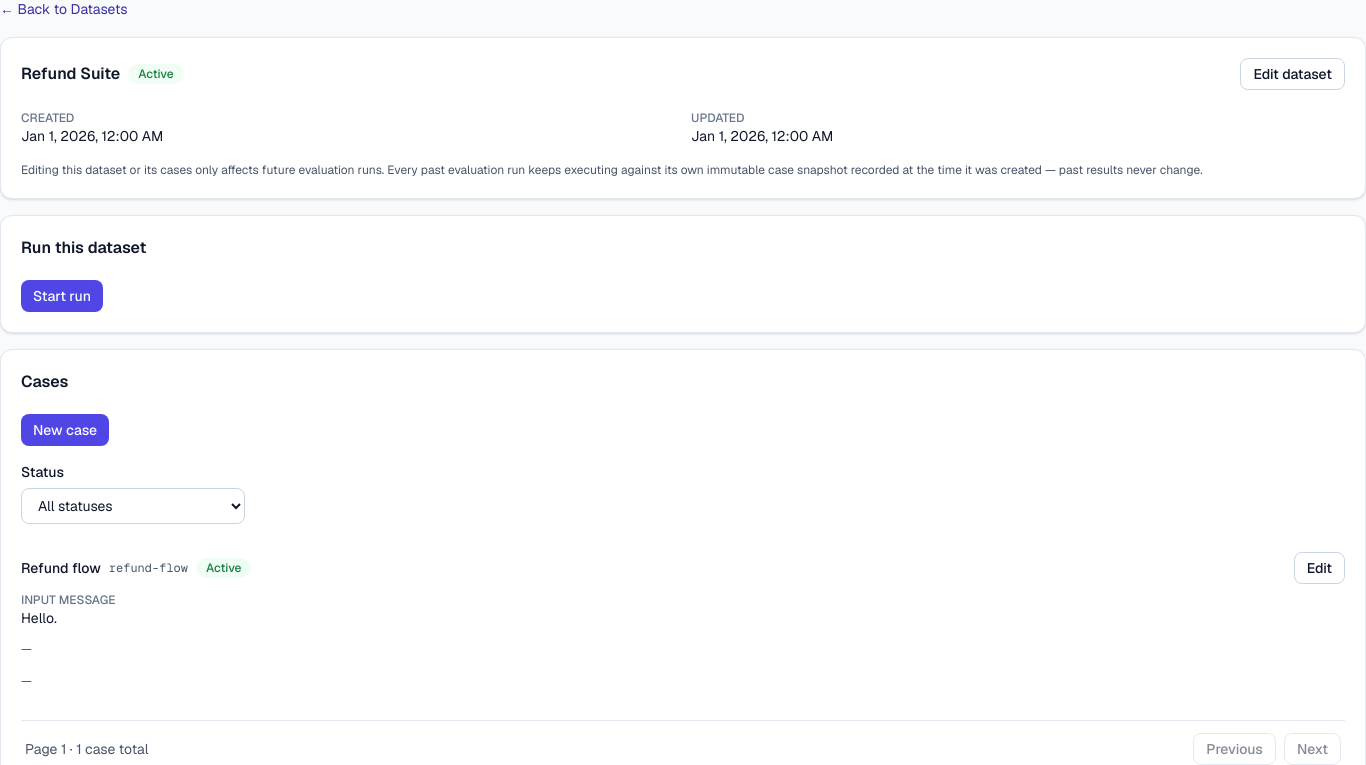
it: EvaluationDatasetDetailPage › edits a case in place and never offers to change its key
Expected: the text "Refund flow" is shown, [21,558,101,578]
Step 1. Click the button "Edit" → {"x": 1319, "y": 568}, box [1294,552,1345,584]
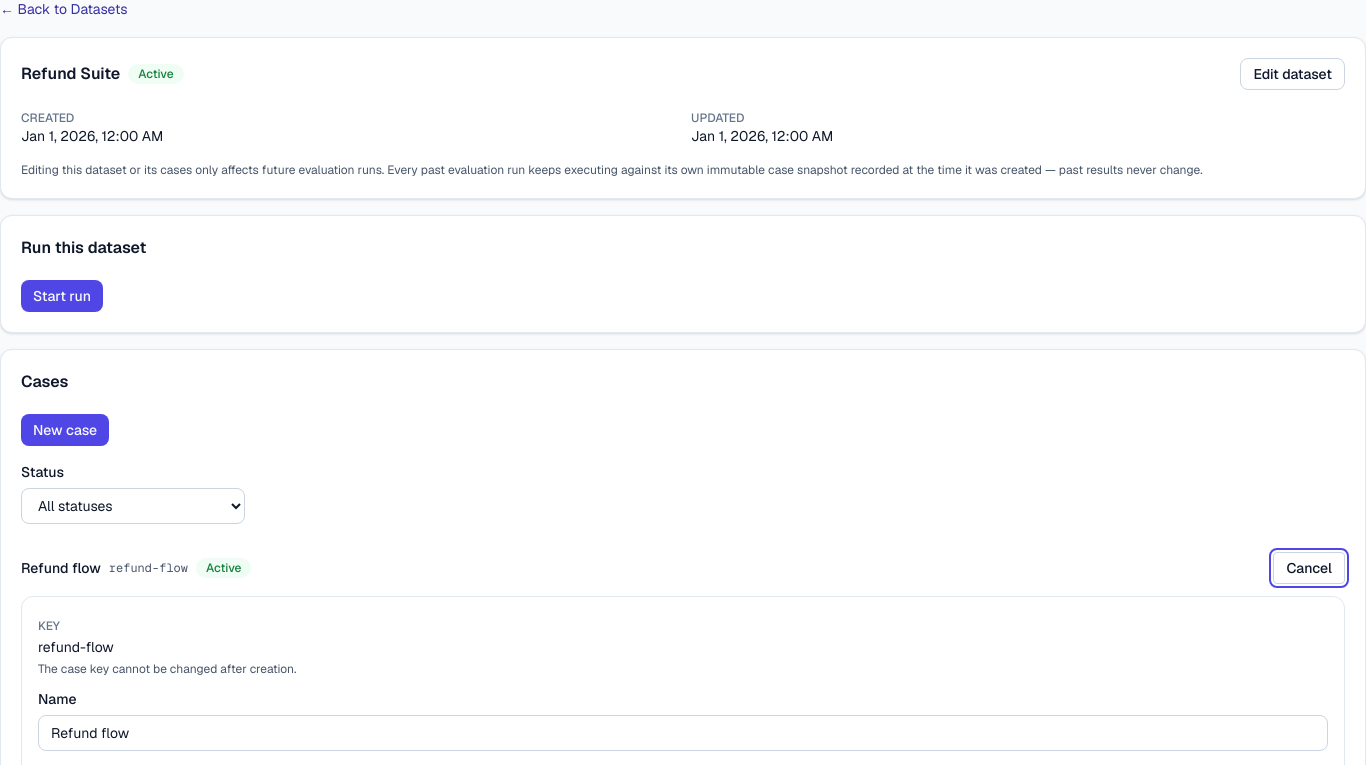
Expected: the text "refund-flow" next to "Refund flow" is shown, [109,560,188,576]
Step 2. Replace the text in the field labelled "Name" with "Refund flow (updated)" → {"x": 683, "y": 733}, box [38,715,1328,751]
(page scrolled)
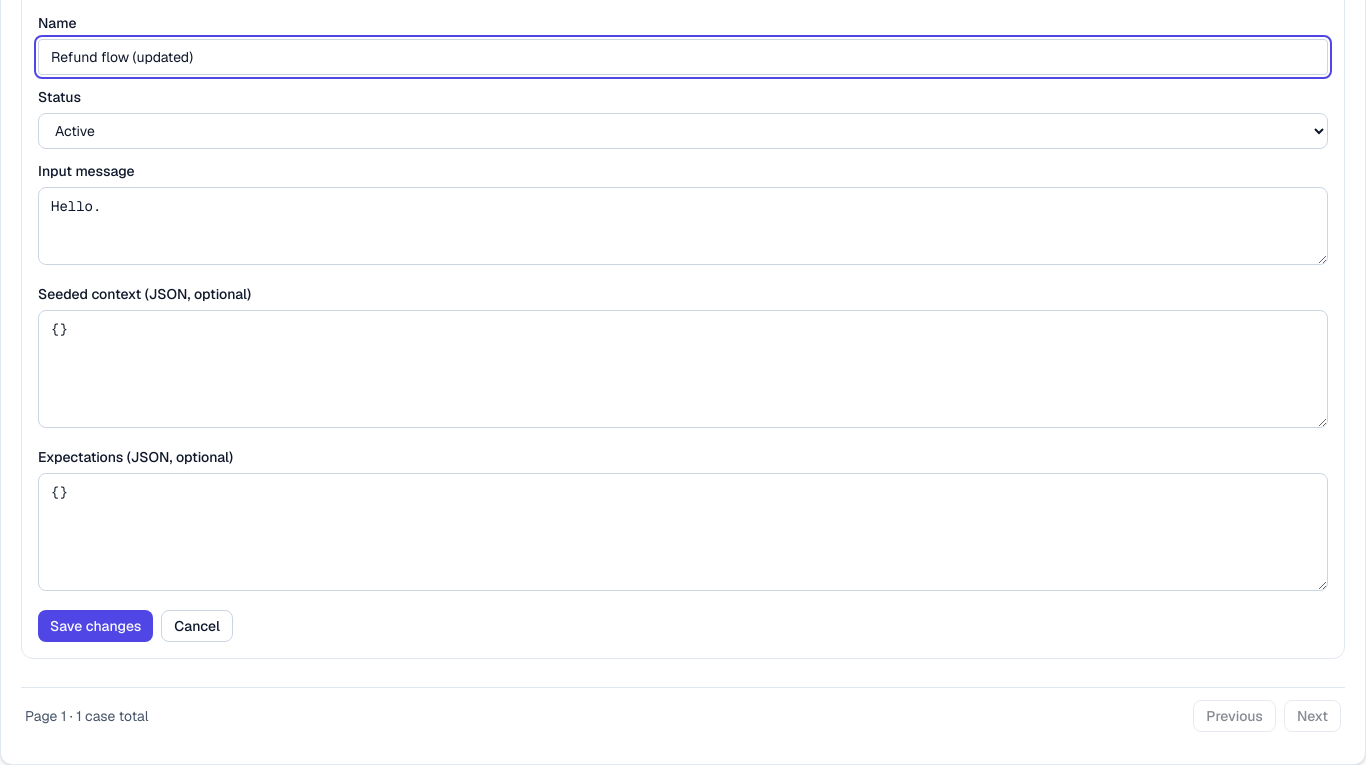
Step 3. Click the button "Save changes" → {"x": 96, "y": 626}, box [38,610,153,642]
(page scrolled)
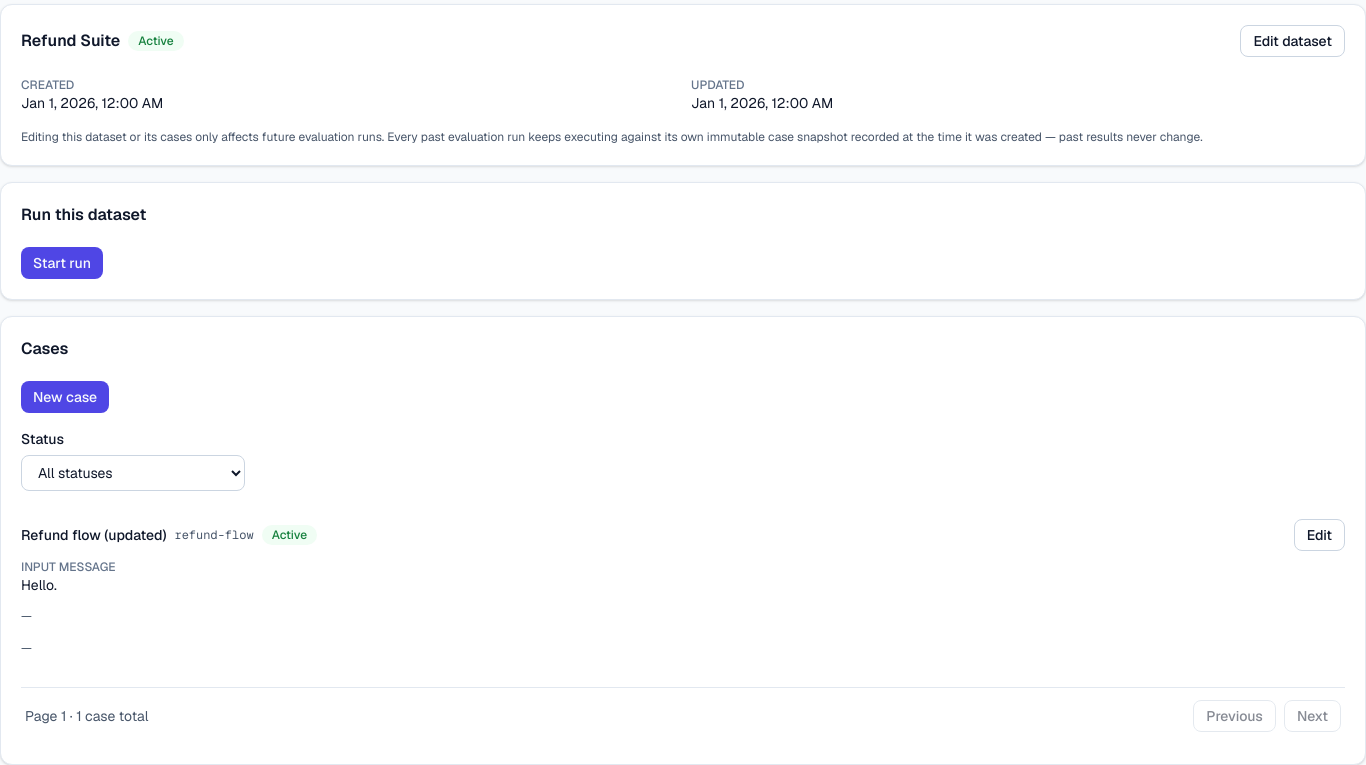
Now the text "Refund flow (updated)" is shown, box [21,525,166,545]
